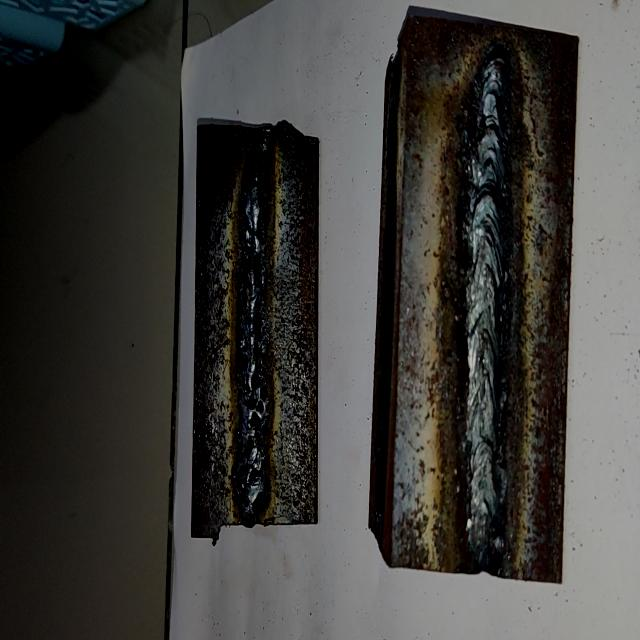Bad Weld: (238, 139, 268, 515)
Defect: (240, 140, 267, 517)
Good Weld: (471, 43, 506, 565)
